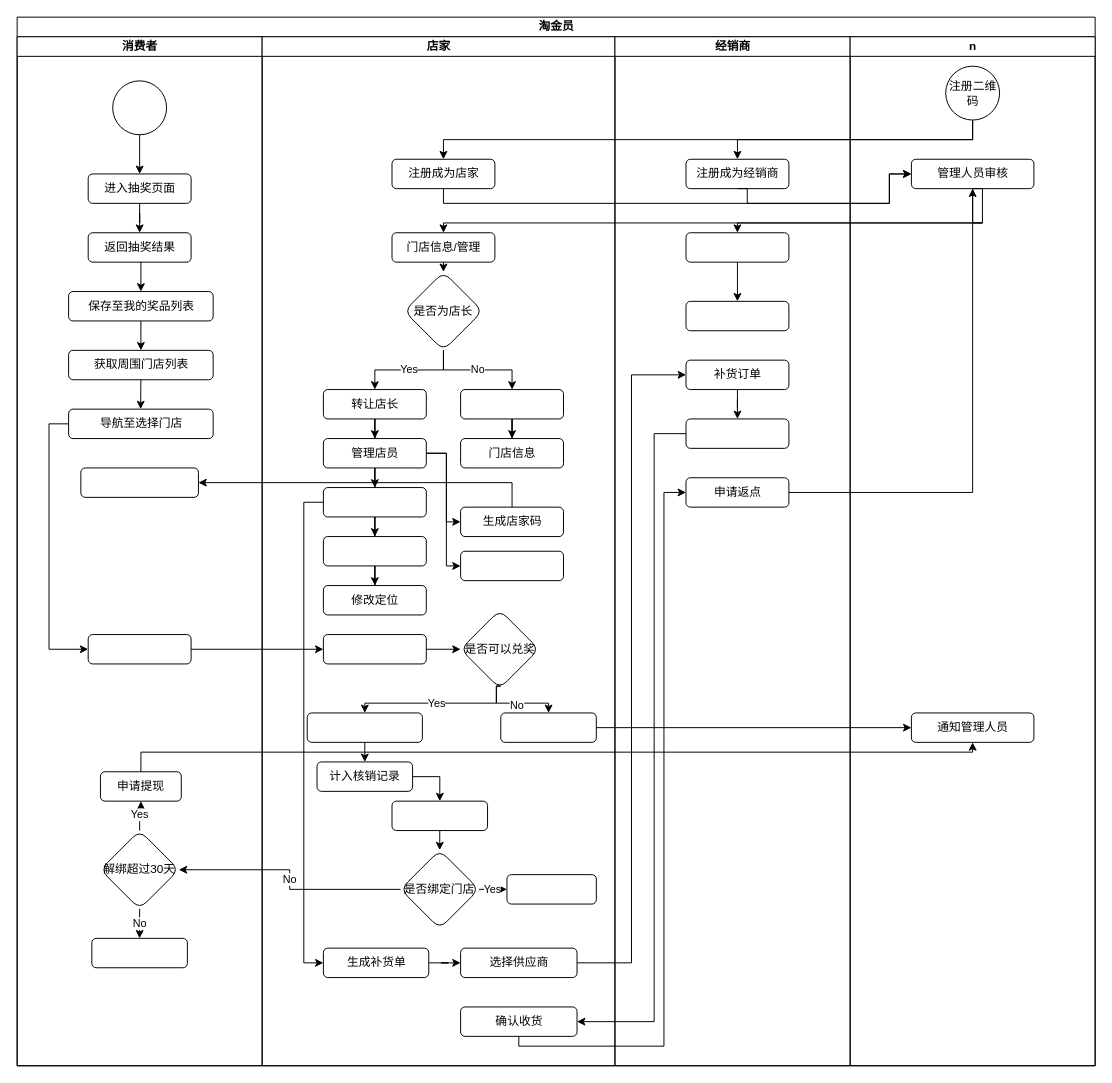
This 1112x1083 diagram has some shape labels left out. Each missing label, with the centre of its shape:
"奖励金自动清除" belongs at (x=139, y=952).
"安排发货" belongs at (x=737, y=433).
"店员信息" belongs at (x=512, y=404).
"扫包装" belongs at (x=139, y=107).
"扫描奖券码" belongs at (x=374, y=649).
"扫码成为店员" belongs at (x=139, y=482).
"换算奖励金" belongs at (x=439, y=815).
"提供奖券码" belongs at (x=139, y=649).
"提供奖品后兑奖完毕" belongs at (x=364, y=727).
"提现奖励金" belongs at (x=551, y=889).
"更换门头照片" belongs at (x=374, y=551).
"申请发放现金" belongs at (x=548, y=727).
"申请补货" belongs at (x=374, y=502).
"管理供应商信息" belongs at (x=737, y=315).
"经销商信息/管理" belongs at (x=737, y=247).
"解绑员工" belongs at (x=512, y=565).
